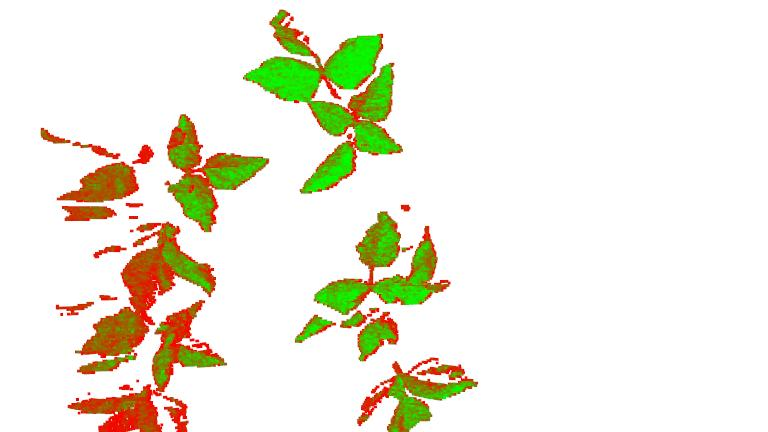mungbean: (32, 112, 271, 308), (297, 210, 478, 432), (243, 8, 403, 195), (68, 295, 229, 432)
